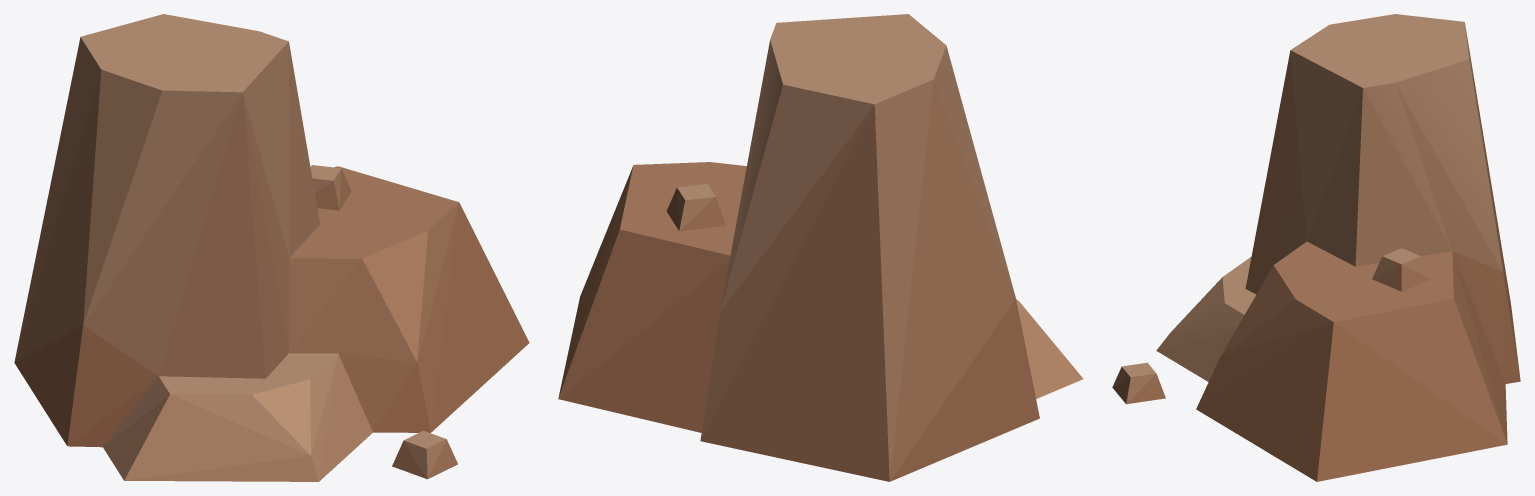
Rendered from survival_rock_sand_a.glb.
3 views of the same model, side by side, from view 1: azimuth 30°, elevation 25°; view 2: azimuth 150°, elevation 25°; view 3: azimuth 270°, elevation 25° (orthographic). The views are drawn at different scales.
Visible parts, largest first — view 1: survival_rock_sand_a; view 2: survival_rock_sand_a; view 3: survival_rock_sand_a.
Part boxes in pixels (x1=…): survival_rock_sand_a: x1=14, y1=14, x2=529, y2=481; survival_rock_sand_a: x1=558, y1=14, x2=1083, y2=481; survival_rock_sand_a: x1=1112, y1=14, x2=1520, y2=481.
Size of the model in its own units: 0.5552 by 0.3927 by 0.4845.
